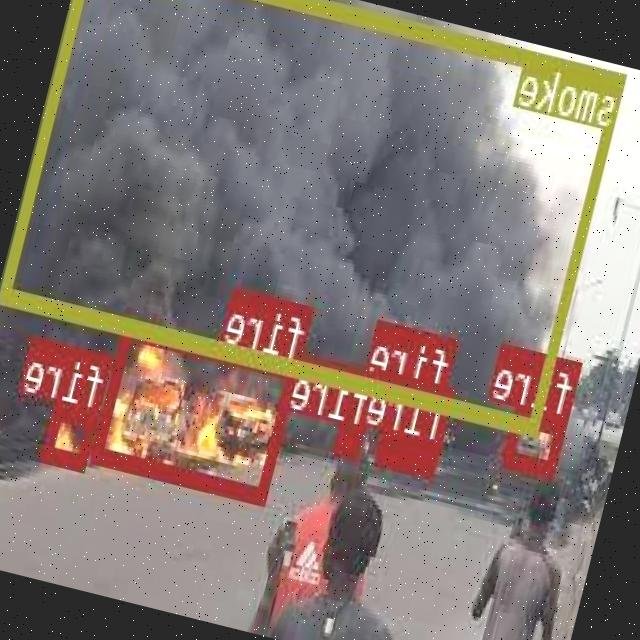fire: (92, 318, 302, 504), (504, 404, 570, 477), (42, 402, 102, 469), (376, 430, 442, 477), (409, 388, 447, 422), (337, 423, 368, 456)
smoke: (1, 0, 629, 433)
